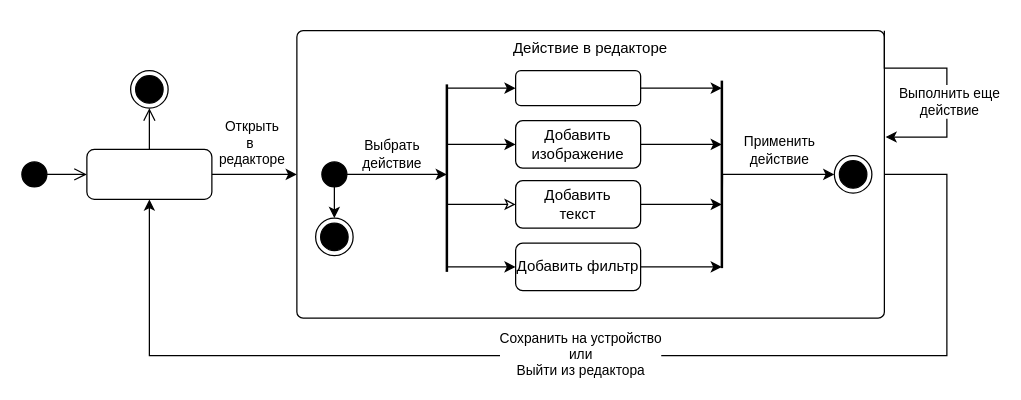
Some shapes in this 1021 by 400 pixel diagram are drawn without their labels. Here are the shapes that lost their labels. From the top down, the box of each, then its label:
(514, 69, 641, 106): Разметка
(86, 148, 212, 199): Исходная обложка
